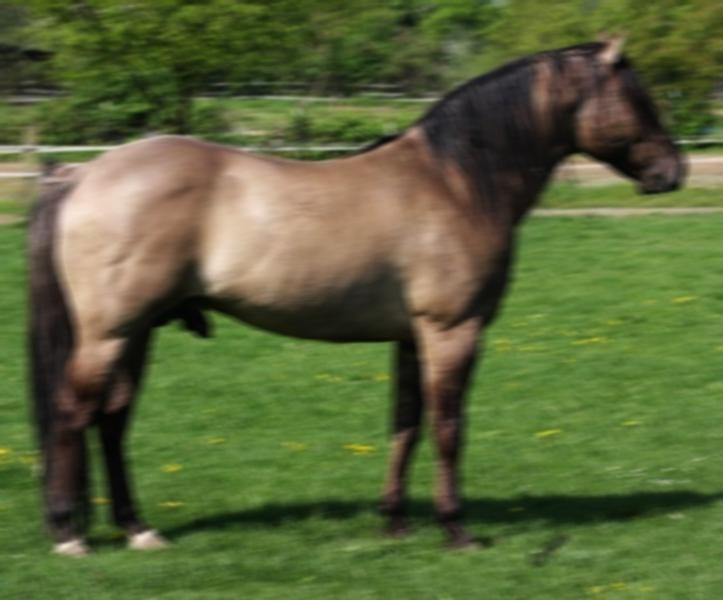horse: (6, 21, 695, 565)
